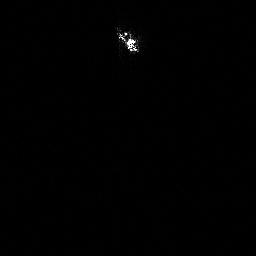ship: (113, 24, 142, 55)
